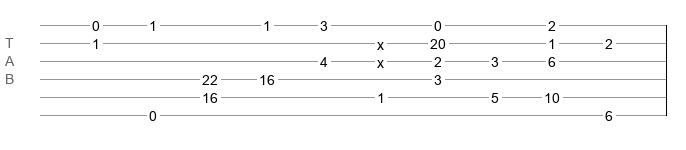0: (92, 18, 100, 28), (149, 108, 157, 118), (434, 18, 442, 28)
1: (92, 36, 100, 46), (149, 18, 157, 28), (263, 18, 271, 28), (377, 90, 385, 100), (548, 36, 556, 46)
10: (544, 90, 560, 100)
16: (202, 90, 218, 100), (259, 72, 275, 82)
2: (434, 54, 442, 64), (548, 18, 556, 28), (605, 36, 613, 46)
20: (430, 36, 446, 46)
22: (202, 72, 218, 82)
3: (320, 18, 328, 28), (434, 72, 442, 82), (491, 54, 499, 64)
4: (320, 54, 328, 64)
5: (491, 90, 499, 100)
6: (548, 54, 556, 64), (605, 108, 613, 118)
x: (377, 37, 384, 45), (377, 55, 384, 63)
